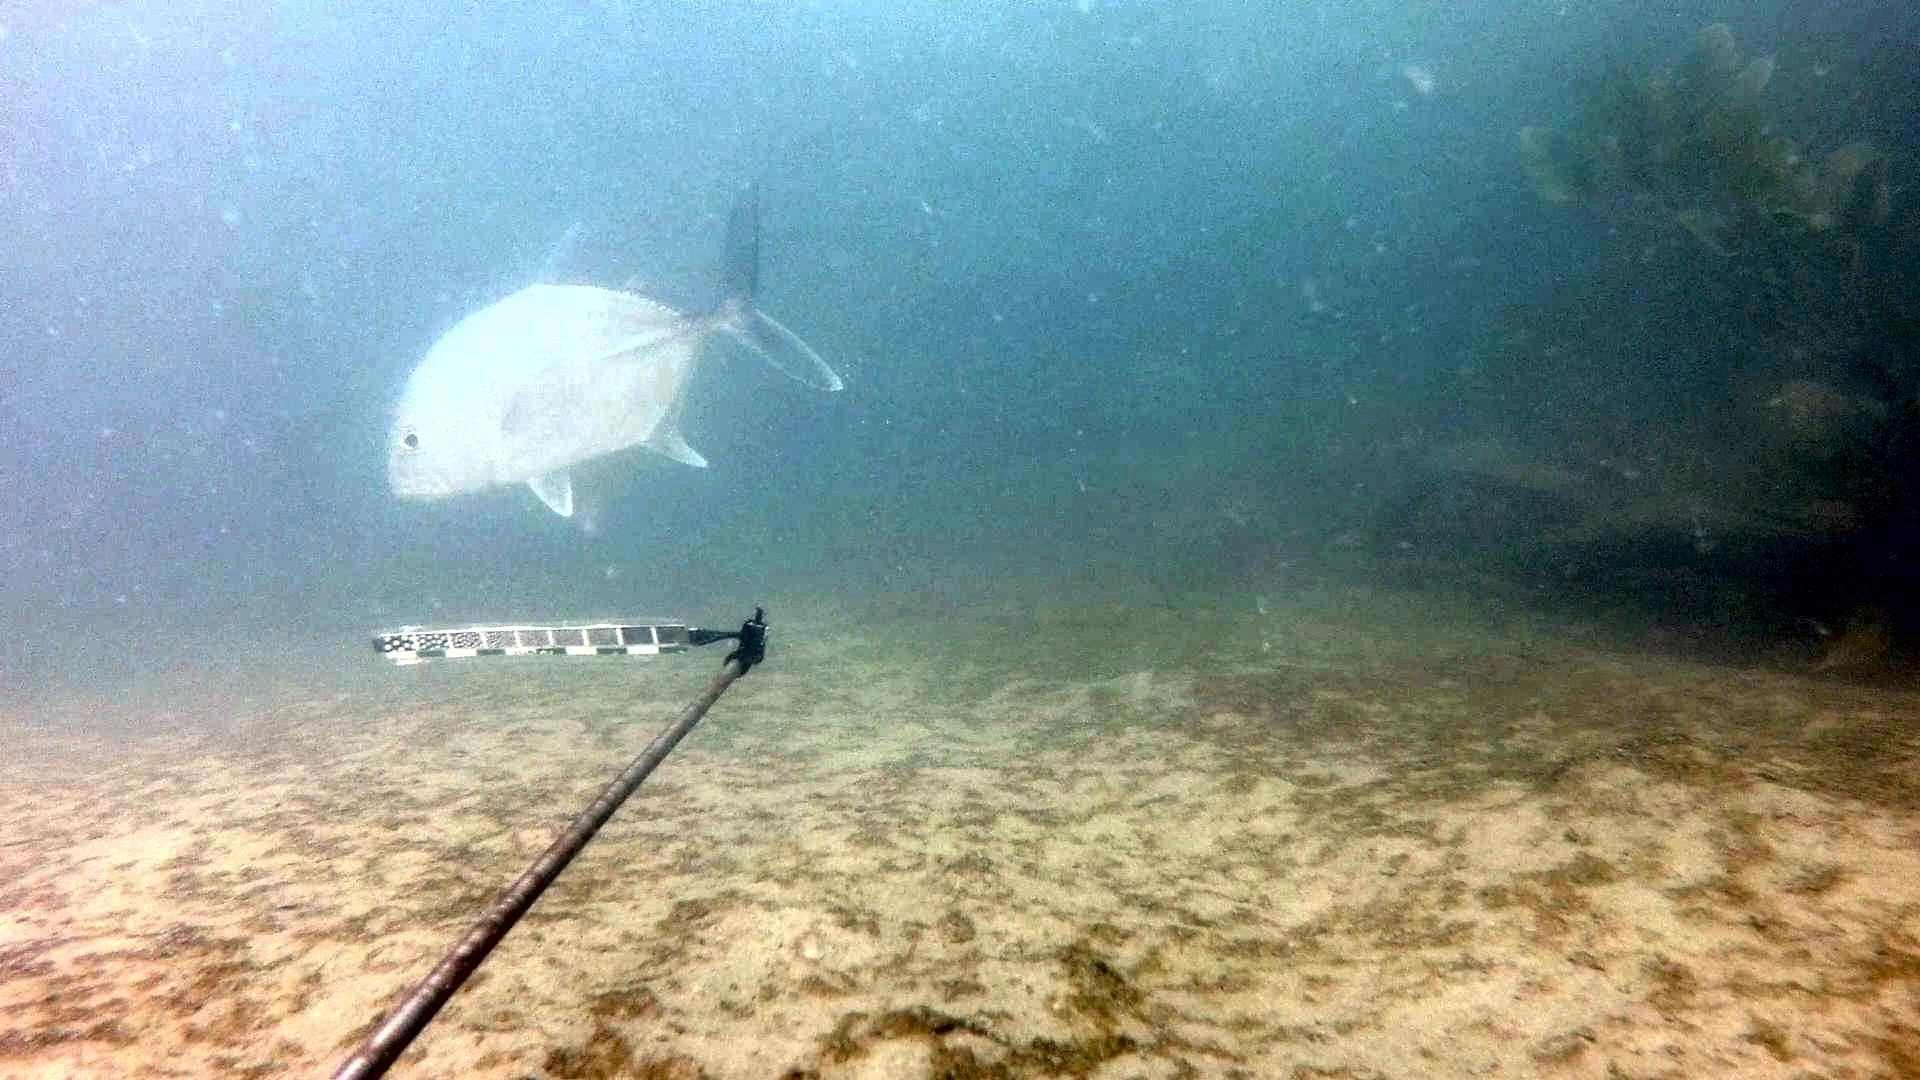caranx: (360, 158, 866, 530)
